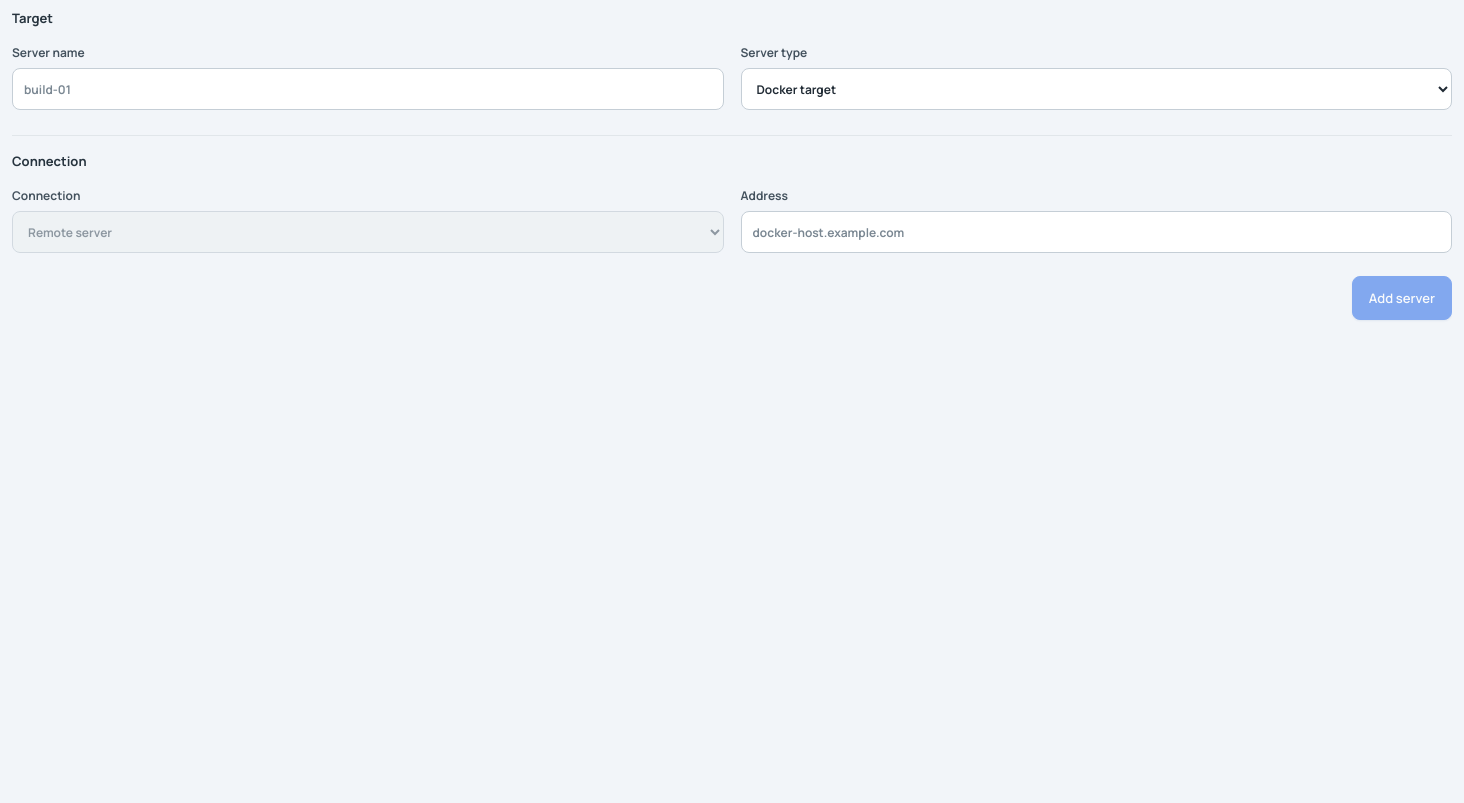
it: Docker builder setup › asks for a saved key, pinned host key, and capacity
Select "Docker builder" in the dropdown labelled "Server type" at (1096, 89), box [740, 68, 1452, 110]
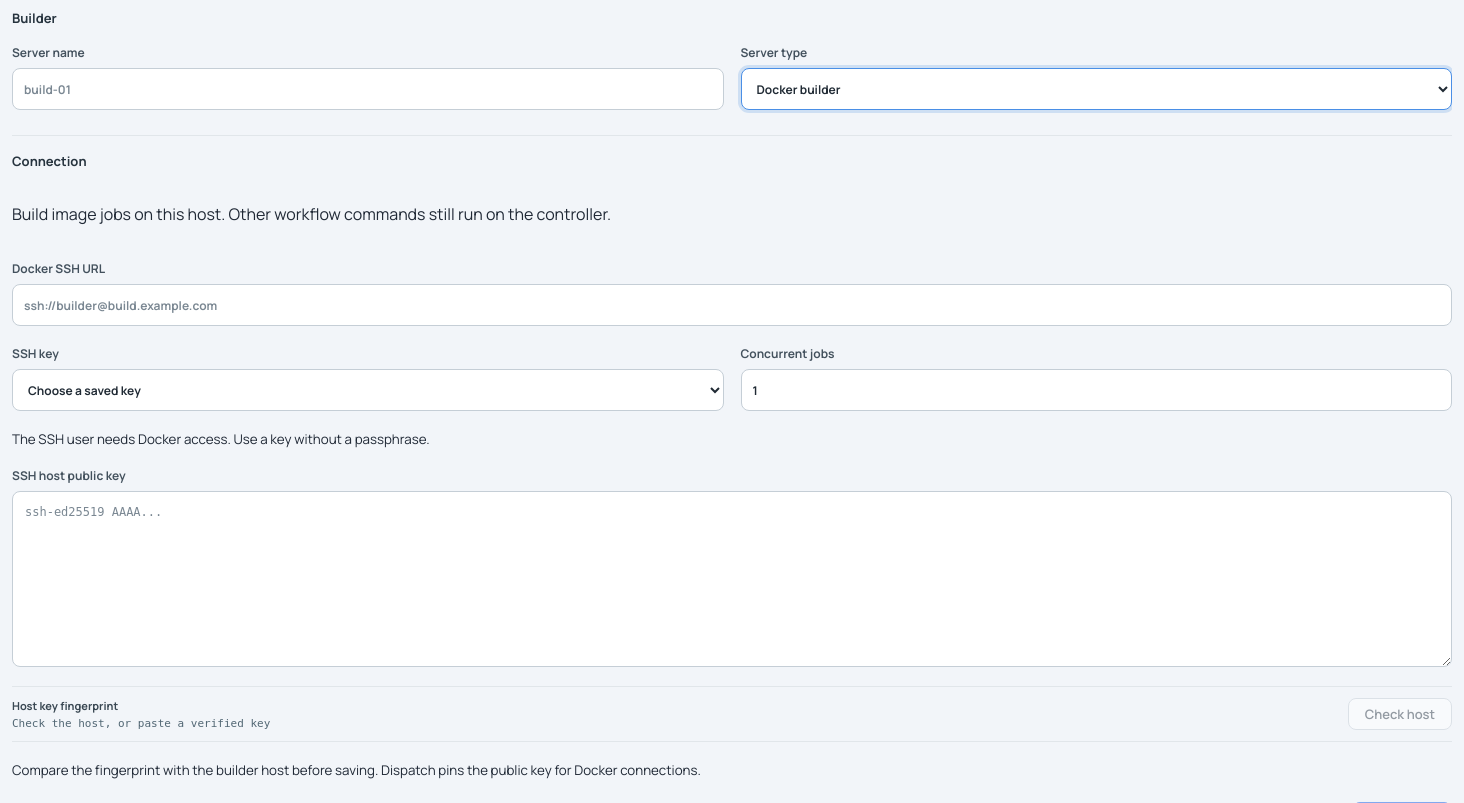
Expected: the field labelled "Docker SSH URL" is shown, [12, 284, 1452, 326]
Expected: the number field labelled "Concurrent jobs" is shown, [740, 369, 1452, 411]
Expected: the text box labelled "SSH host public key" is shown, [12, 491, 1452, 667]
